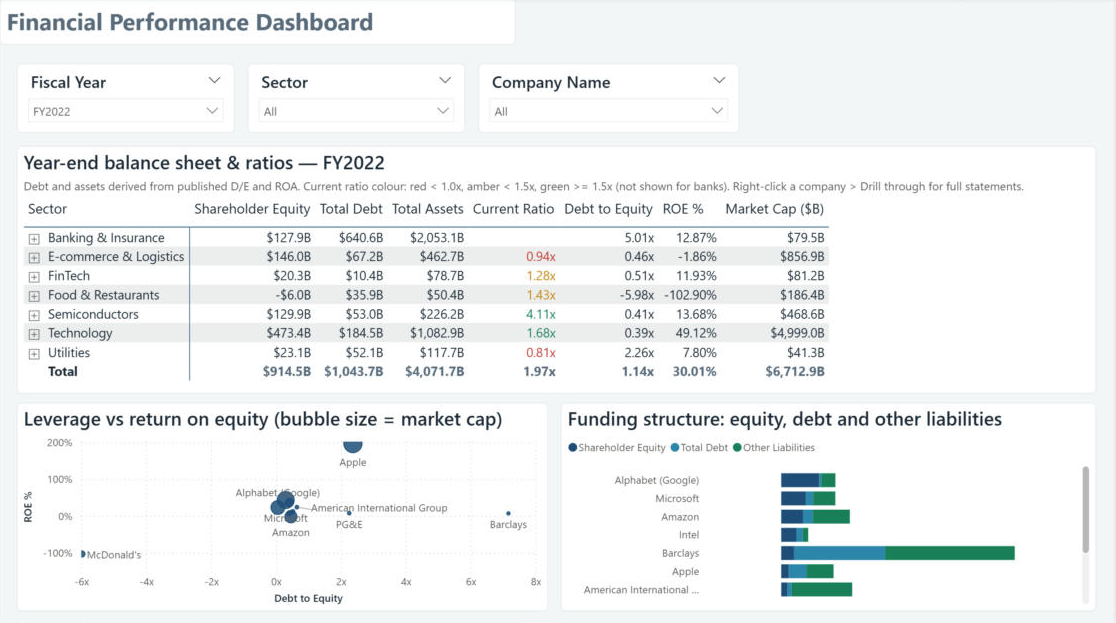

Layout of this report page (visuals, bound fields, positions):
{"tool":"powerbi","page":{"name":"Balance Sheet","canvas":[1280,720],"ordinal":2},"visuals":[{"type":"textbox","box":[0,0,592.8,53.6],"z":0},{"type":"slicer","fields":{"Values":["DimYear.Fiscal Year"]},"box":[20,75,250,80],"z":1000},{"type":"slicer","fields":{"Values":["DimCompany.Sector Hierarchy.Sector"]},"box":[285,75,250,80],"z":2000},{"type":"slicer","fields":{"Values":["DimCompany.Sector Hierarchy.Company Name"]},"box":[550,75,300,80],"z":3000},{"type":"pivotTable","fields":{"Rows":["DimCompany.Sector Hierarchy.Sector","DimCompany.Sector Hierarchy.Company Name"],"Values":["_Measures.Shareholder Equity","_Measures.Total Debt","_Measures.Total Assets","_Measures.Current Ratio","_Measures.Debt to Equity","_Measures.ROE %","_Measures.Market Cap ($B)"]},"box":[20,170,1240,285],"z":3001},{"type":"scatterChart","title":"Leverage vs return on equity (bubble size = market cap)","fields":{"Category":["DimCompany.Sector Hierarchy.Company Name"],"X":["_Measures.Debt to Equity"],"Y":["_Measures.ROE %"],"Size":["_Measures.Market Cap ($B)"]},"box":[20,465,610,240],"z":3002},{"type":"barChart","title":"Funding structure: equity, debt and other liabilities","fields":{"Category":["DimCompany.Sector Hierarchy.Company Name"],"Y":["_Measures.Shareholder Equity","_Measures.Total Debt","_Measures.Other Liabilities"]},"box":[645,465,615,240],"z":3003}]}

Visuals, with their boxes in screenshot pixels (x1, y1, x2, y2), scaled from the page's 1280x720 canvas onto the 1116x623 screenshot:
textbox: (0, 0, 517, 46)
slicer - DimYear.Fiscal Year: (17, 65, 235, 134)
slicer - DimCompany.Sector Hierarchy.Sector: (248, 65, 466, 134)
slicer - DimCompany.Sector Hierarchy.Company Name: (480, 65, 741, 134)
pivotTable - DimCompany.Sector Hierarchy.Sector x DimCompany.Sector Hierarchy.Company Name: (17, 147, 1099, 394)
"Leverage vs return on equity (bubble size = market cap)" scatterChart: (17, 402, 549, 610)
"Funding structure: equity, debt and other liabilities" barChart: (562, 402, 1099, 610)
